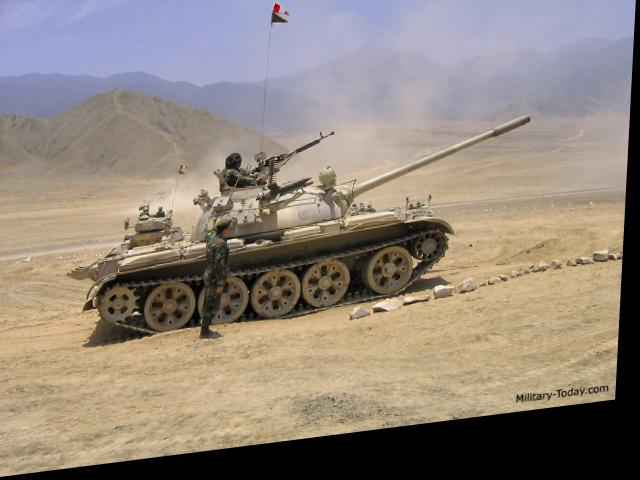other: (203, 219, 236, 337), (224, 156, 260, 196), (143, 209, 152, 219), (159, 210, 166, 220), (418, 212, 423, 218)
tank: (87, 165, 452, 343), (127, 205, 187, 250)
